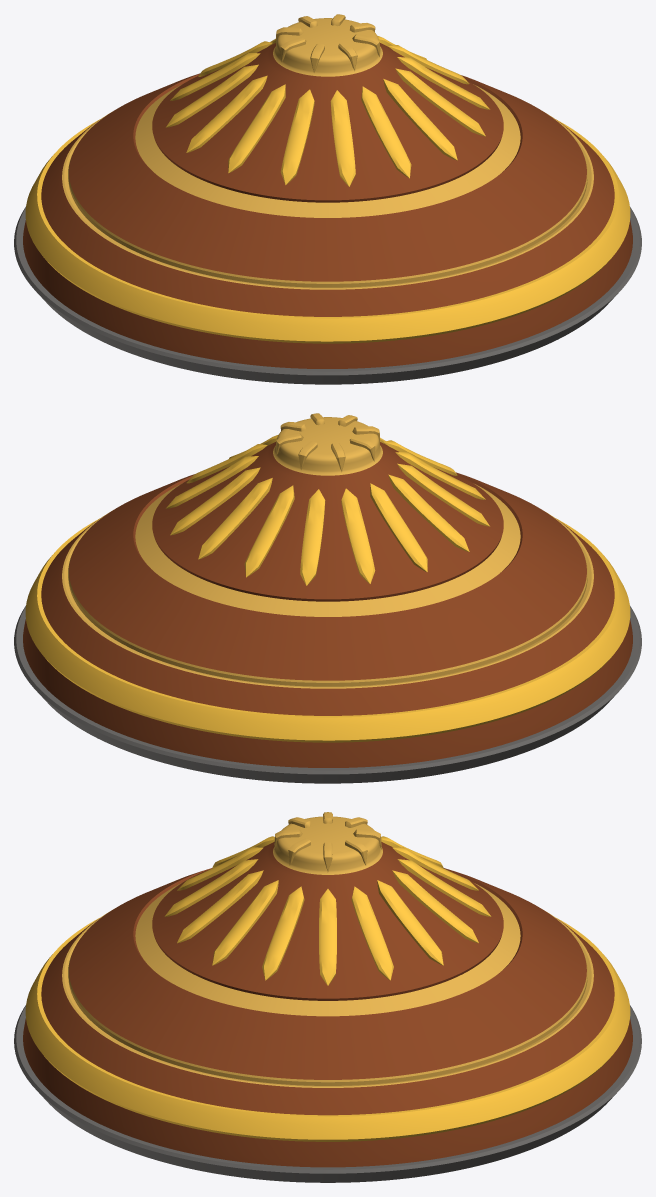
File: gasing_kedah.glb
3 views of the same model, one above another, from view 1: azimuth 30°, elevation 25°; view 2: azimuth 150°, elevation 25°; view 3: azimuth 270°, elevation 25° (orthographic).
Visible parts, largest first — view 1: Gasing_kedah; view 2: Gasing_kedah; view 3: Gasing_kedah.
Boxes of the visible parts, left/top/right/bottom form: Gasing_kedah: left=14, top=14, right=641, bottom=384; Gasing_kedah: left=14, top=413, right=641, bottom=783; Gasing_kedah: left=14, top=812, right=641, bottom=1182.
Size of the model in its own units: 1.12 by 0.6001 by 1.12.
